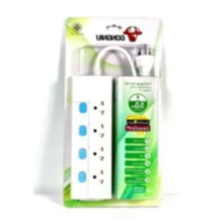book: (61, 12, 166, 211)
three_eye_plug: (67, 72, 116, 203)
